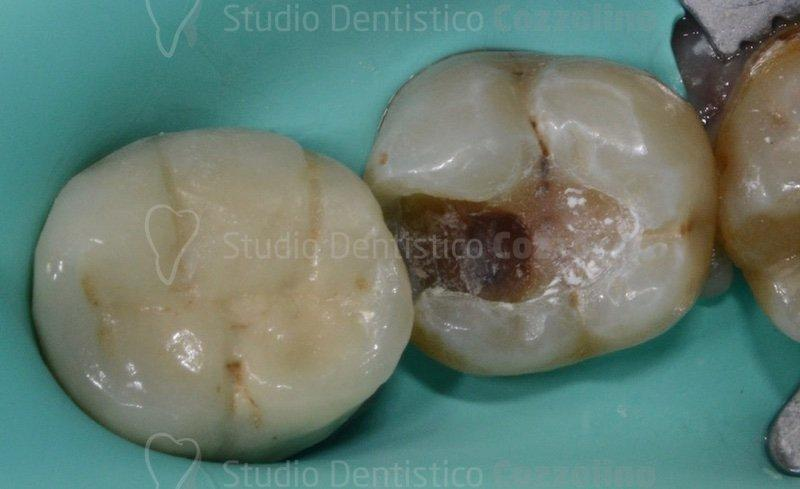cavity: (17, 99, 425, 470), (343, 32, 740, 390), (698, 4, 800, 355)
